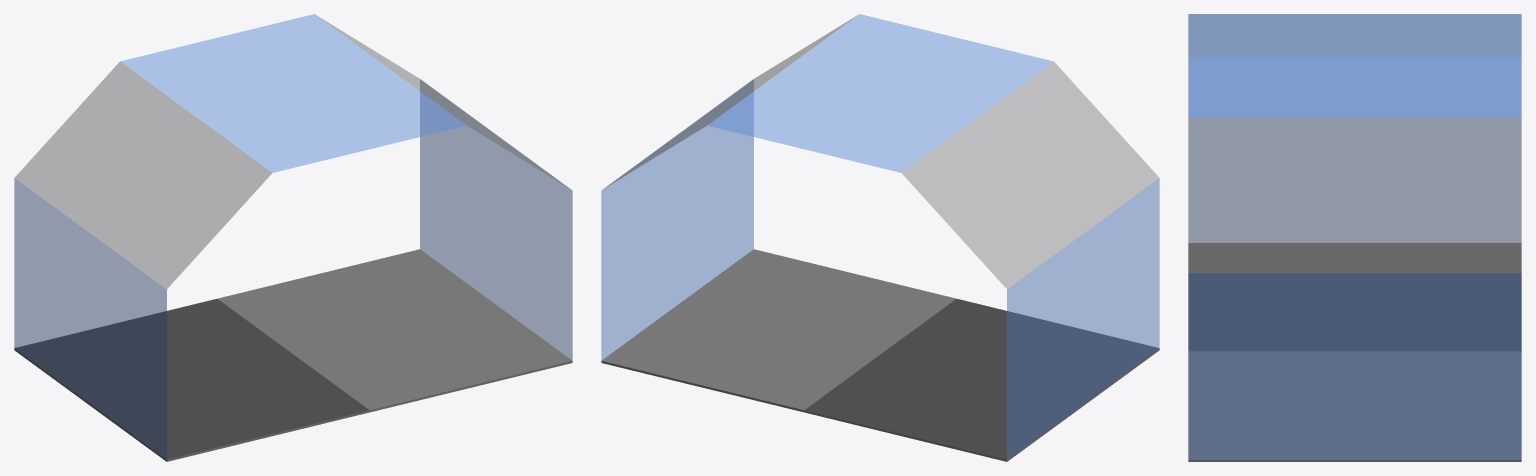
3 renders of one model, left to right at view 1: azimuth 30°, elevation 25°; view 2: azimuth 150°, elevation 25°; view 3: azimuth 270°, elevation 25°, orthographic. The views are drawn at different scales.
Visible parts, largest first — view 1: root; view 2: root; view 3: root.
Boxes of the visible parts, x1,y1,x2,y2 form: root: [14, 14, 572, 461]; root: [601, 14, 1159, 461]; root: [1188, 14, 1521, 461].
Size of the model in its own units: 4.88 by 3.02 by 3.17.
